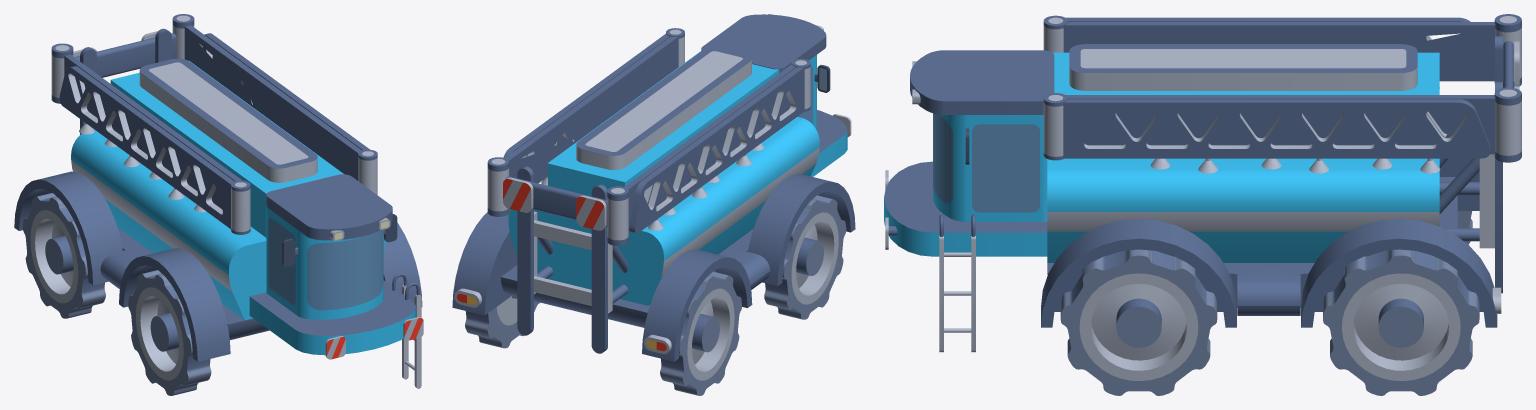
File: Sprayer.fbx
3 views of the same model, side by side, from view 1: azimuth 30°, elevation 25°; view 2: azimuth 150°, elevation 25°; view 3: azimuth 270°, elevation 25° (orthographic). The views are drawn at different scales.
Visible parts, largest first — view 1: Sprayer, Sprayer right 02, Sprayer left 01, Wheel sprayer Back, Wheel sprayer Front R, Sprayer base, Sprayer right 01, Sprayer left 02; view 2: Sprayer, Sprayer right 02, Wheel sprayer Back, Sprayer left 01, Wheel sprayer Front R, Sprayer base, Sprayer right 01, Sprayer left 02; view 3: Sprayer, Sprayer left 02, Wheel sprayer Back, Wheel sprayer Front L, Sprayer left 01, Sprayer right 01, Sprayer base, Sprayer right 02.
Boxes of the visible parts, left/top/right/bottom form: Sprayer: left=14, top=28, right=423, bottom=388; Sprayer right 02: left=59, top=66, right=250, bottom=234; Sprayer left 01: left=184, top=25, right=361, bottom=180; Wheel sprayer Back: left=23, top=193, right=105, bottom=318; Wheel sprayer Front R: left=128, top=270, right=211, bottom=395; Sprayer base: left=51, top=14, right=194, bottom=103; Sprayer right 01: left=64, top=54, right=242, bottom=212; Sprayer left 02: left=204, top=33, right=377, bottom=194; Sprayer: left=452, top=14, right=855, bottom=361; Sprayer right 02: left=629, top=58, right=810, bottom=233; Wheel sprayer Back: left=465, top=271, right=741, bottom=395; Sprayer left 01: left=505, top=36, right=678, bottom=185; Wheel sprayer Front R: left=764, top=195, right=846, bottom=319; Sprayer base: left=487, top=157, right=628, bottom=245; Sprayer right 01: left=624, top=64, right=795, bottom=233; Sprayer left 02: left=503, top=28, right=684, bottom=158; Sprayer: left=884, top=36, right=1502, bottom=352; Sprayer left 02: left=1043, top=93, right=1490, bottom=173; Wheel sprayer Back: left=1323, top=211, right=1479, bottom=395; Wheel sprayer Front L: left=1060, top=249, right=1217, bottom=395; Sprayer left 01: left=1066, top=95, right=1495, bottom=169; Sprayer right 01: left=1063, top=22, right=1495, bottom=81; Sprayer base: left=1494, top=14, right=1521, bottom=162; Sprayer right 02: left=1043, top=15, right=1470, bottom=88.
Bounding box in the file's own units: 4.13 × 3.86 × 8.15.
